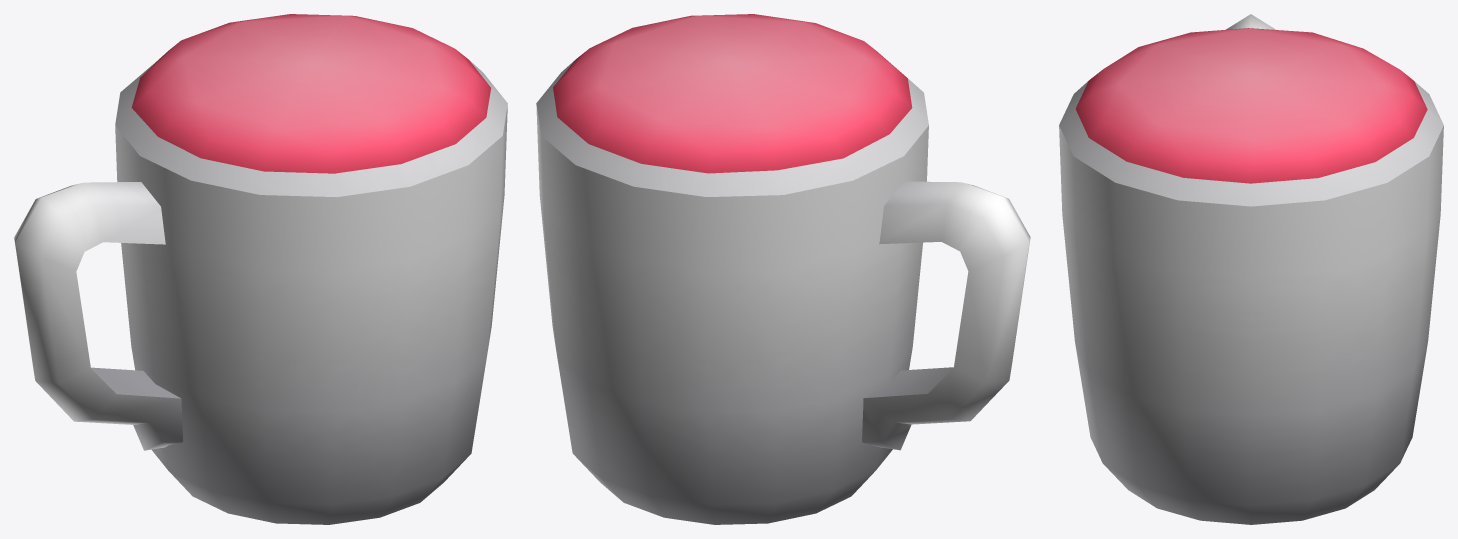
The model's file is m_Mug01_Pink01.fbx.
3 renders of one model, left to right at view 1: azimuth 30°, elevation 25°; view 2: azimuth 150°, elevation 25°; view 3: azimuth 270°, elevation 25°, orthographic. The views are drawn at different scales.
Visible parts, largest first — view 1: m_Mug01_Pink01; view 2: m_Mug01_Pink01; view 3: m_Mug01_Pink01.
Part boxes in pixels (x1,y1,x2,y2): m_Mug01_Pink01: (14, 14, 507, 524); m_Mug01_Pink01: (536, 14, 1030, 524); m_Mug01_Pink01: (1059, 14, 1443, 524).
Bounding box in the file's own units: 15.22 × 12.58 × 11.16.
